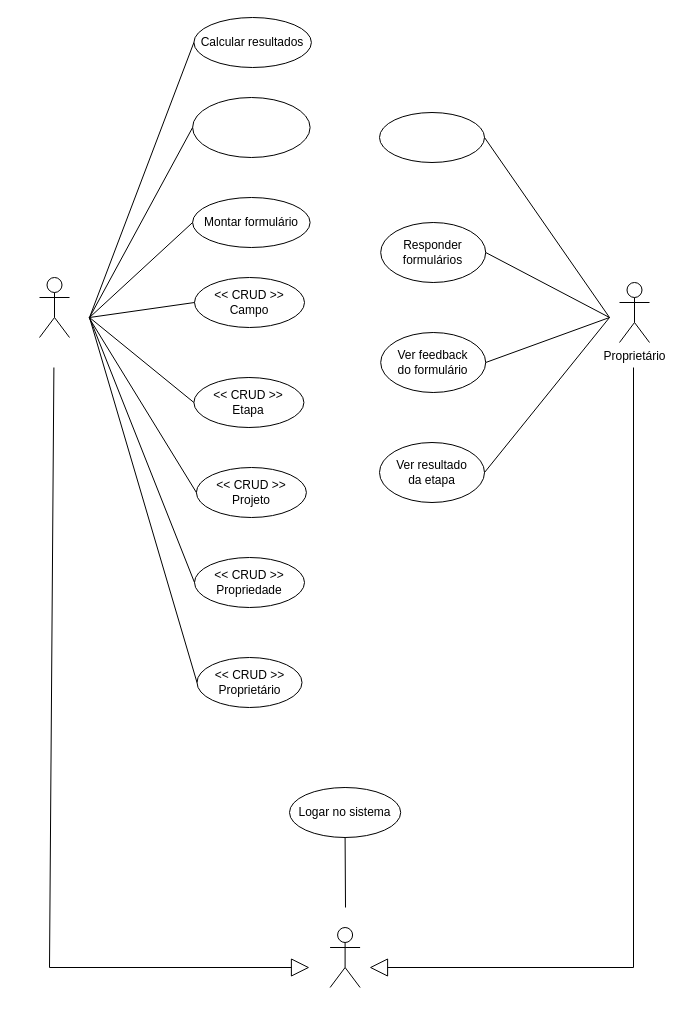
Some shapes in this 683 by 1026 pixel diagram are drawn without their labels. Each missing label, with the centre of its shape:
"Administrador" belongs at point (54, 307).
"Enviar feedback do formulário" belongs at point (251, 127).
"Usuário" belongs at point (344, 957).
"Ver projetos" belongs at point (431, 137).
